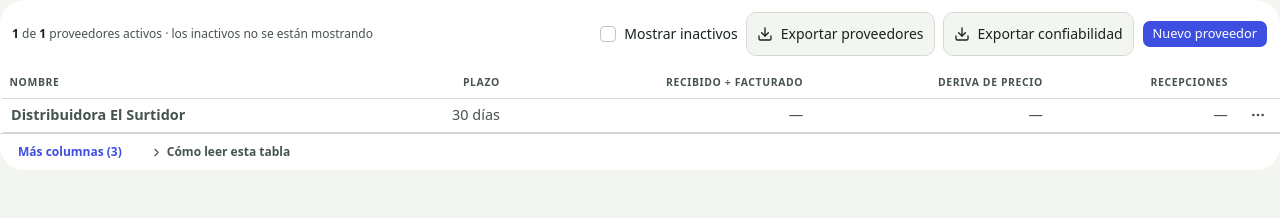
Test case: SuppliersTab — entidad canónica, baja lógica, NIT duplicado con mensaje específico › un proveedor inactivo no ofrece «Desactivar» en su menú
The image size is (1280, 218).
Expected: the text "Distribuidora El Surtidor" is shown, top-left (2, 98), bottom-right (382, 132)
Click the button named "Acciones de Distribuidora El Surtidor": click(1258, 115) top-left (1244, 101), bottom-right (1272, 129)
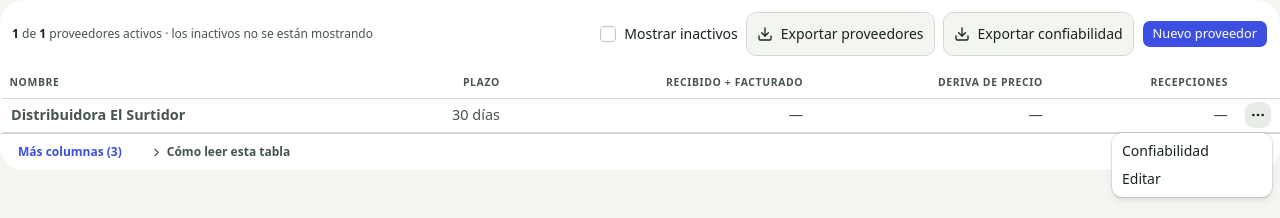
Expected: the menu item "Editar" is shown, top-left (1122, 169), bottom-right (1161, 188)
